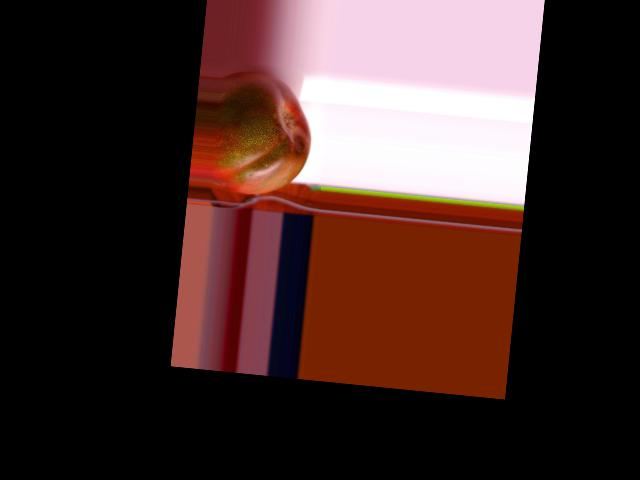tomato: (210, 69, 317, 200)
